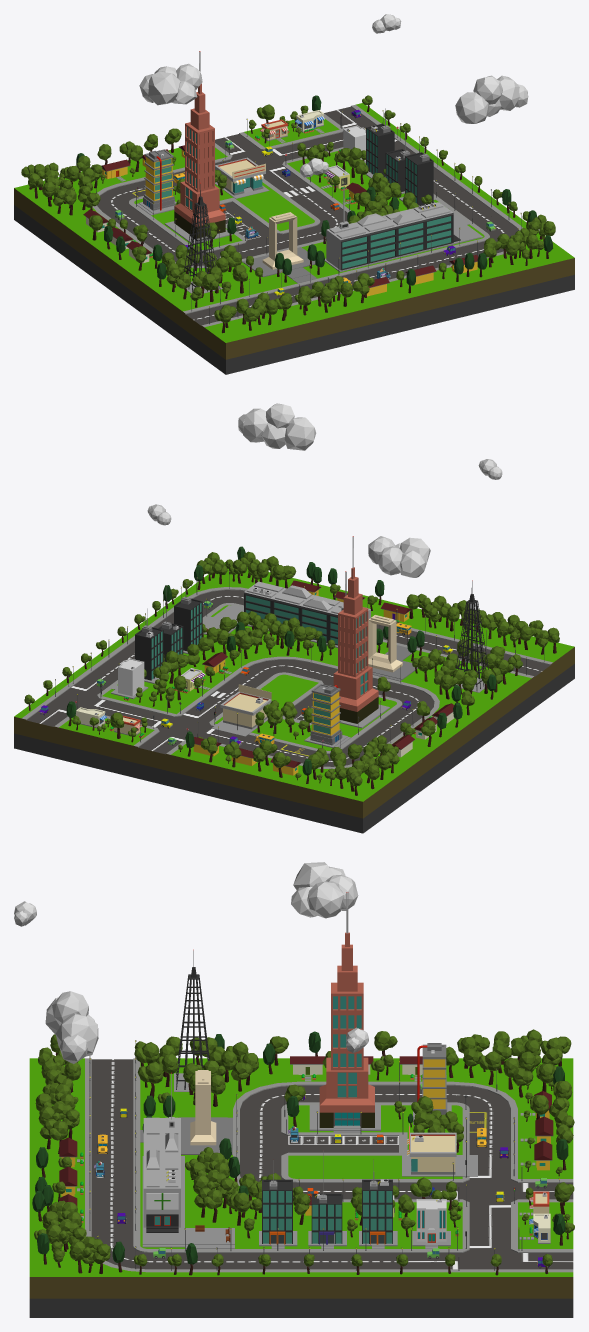
The model's file is home.glb.
3 renders of one model, top to bottom at view 1: azimuth 30°, elevation 25°; view 2: azimuth 150°, elevation 25°; view 3: azimuth 270°, elevation 25°, orthographic. The views are drawn at different scales.
Visible parts, largest first — view 1: strada normale.024, Cube.033, Plane.033, Cube.021, Icosphere.096, curva.009, Icosphere.094, Cube.022, Cube.025, tenda.003, Cube.040_COLOR_0, Plane.031 (+33 smaller); view 2: strada normale.024, Cube.021, Cube.033, Plane.033, Icosphere.096, Icosphere.094, curva.009, Cube.022, tenda.003, curva.010, Cube.025, Cube.040_COLOR_0 (+28 smaller); view 3: strada normale.024, Cube.021, Cube.033, Plane.033, Icosphere.094, Plane.031, curva.009, tenda.003, Icosphere.096, Cube.022, stop.005, curva.010 (+52 smaller).
Part boxes in pixels (<box>): strada normale.024: <box>14,188,574,374</box>; Cube.033: <box>326,202,460,270</box>; Plane.033: <box>205,254,523,342</box>; Cube.021: <box>174,83,225,238</box>; Icosphere.096: <box>455,75,528,123</box>; curva.009: <box>122,259,262,311</box>; Icosphere.094: <box>139,63,202,105</box>; Cube.022: <box>242,212,316,283</box>; Cube.025: <box>143,149,174,210</box>; tenda.003: <box>215,157,269,198</box>; Cube.040_COLOR_0: <box>183,183,219,291</box>; Plane.031: <box>236,182,313,231</box>; strada normale.024: <box>14,647,574,833</box>; Cube.021: <box>333,567,378,723</box>; Cube.033: <box>236,581,370,645</box>; Plane.033: <box>265,577,574,662</box>; Icosphere.096: <box>238,403,316,450</box>; Icosphere.094: <box>368,536,430,577</box>; curva.009: <box>415,660,531,722</box>; Cube.022: <box>368,615,417,681</box>; tenda.003: <box>211,684,271,736</box>; curva.010: <box>283,763,408,801</box>; Cube.025: <box>310,684,342,745</box>; Cube.040_COLOR_0: <box>455,580,488,691</box>; strada normale.024: <box>29,1277,573,1317</box>; Cube.021: <box>319,932,374,1127</box>; Cube.033: <box>143,1117,180,1232</box>; Plane.033: <box>29,1058,84,1245</box>; Icosphere.094: <box>291,862,358,918</box>; Plane.031: <box>288,1155,462,1178</box>; curva.009: <box>140,1058,296,1108</box>; tenda.003: <box>402,1124,477,1176</box>; Icosphere.096: <box>45,991,98,1063</box>; Cube.022: <box>140,1070,232,1154</box>; stop.005: <box>407,1249,517,1272</box>; curva.010: <box>454,1058,573,1108</box>.
Size of the model in its own units: 94.09 by 56 by 102.
9 materials, 6 textured.
